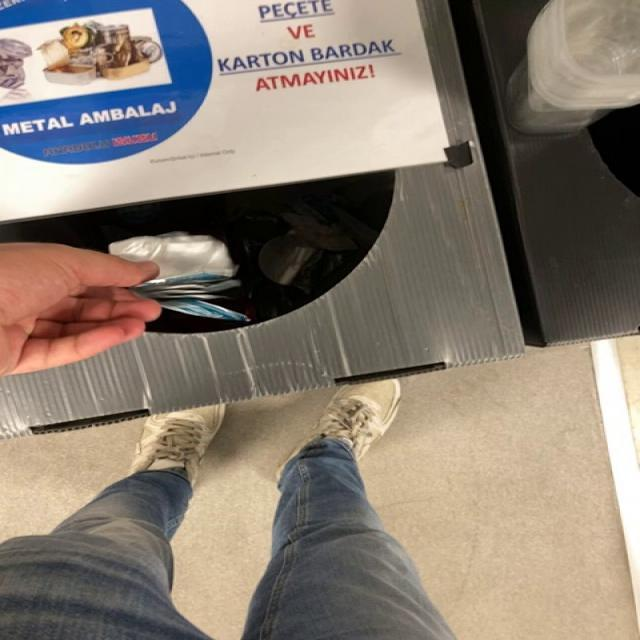Bin: (0, 0, 523, 438)
Metal: (109, 231, 249, 322)
